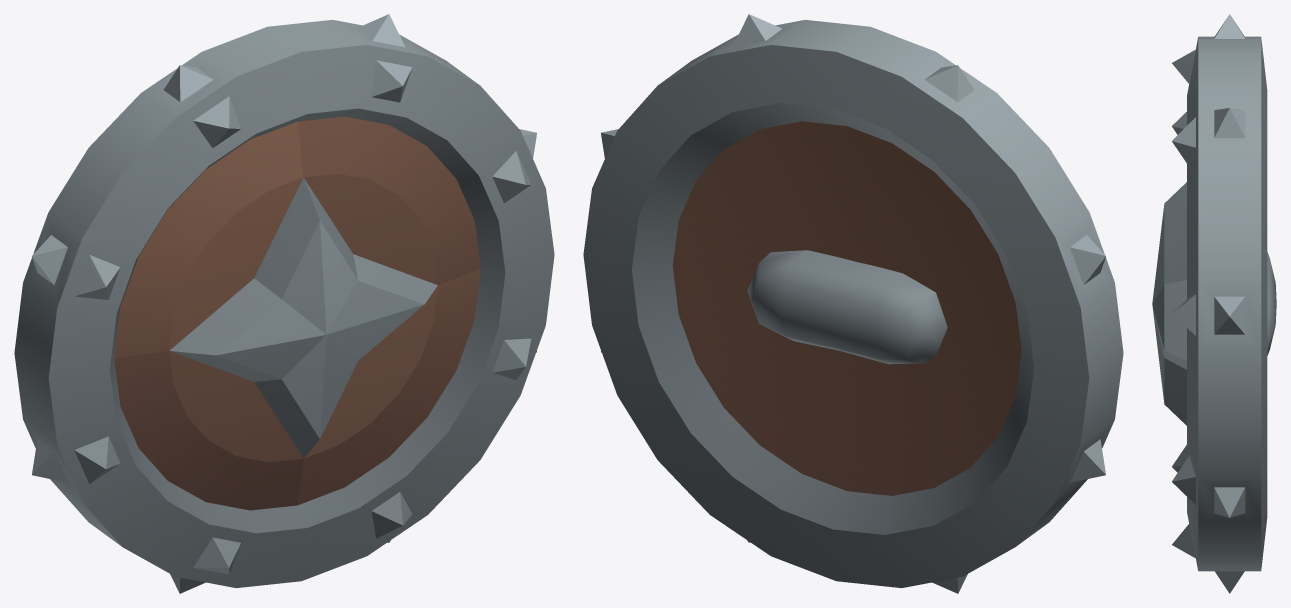
Rendered from Cleric_Shield.gltf.
3 views of the same model, side by side, from view 1: azimuth 30°, elevation 25°; view 2: azimuth 150°, elevation 25°; view 3: azimuth 270°, elevation 25° (orthographic). The views are drawn at different scales.
Parts seen in each view (by area): view 1: Cleric_Shield; view 2: Cleric_Shield; view 3: Cleric_Shield.
Part boxes in pixels (box(x1,y1,x2,y2)): Cleric_Shield: box(14, 14, 554, 593); Cleric_Shield: box(583, 14, 1123, 593); Cleric_Shield: box(1152, 14, 1276, 593).
Size of the model in its own units: 0.7492 by 0.7492 by 0.1736.
1 material, 1 textured.
